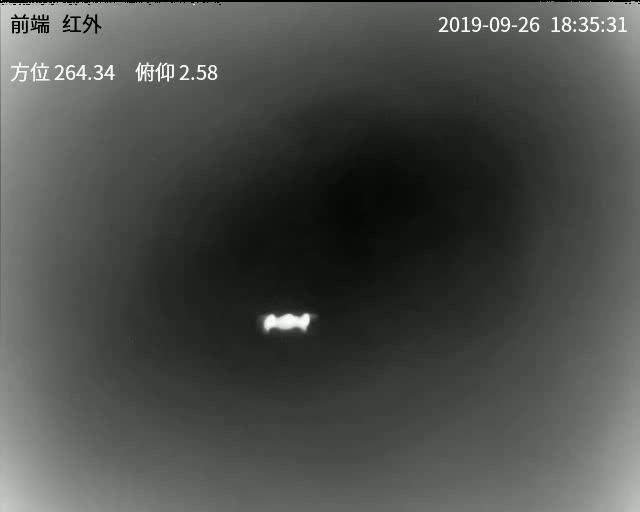DRONE: (261, 311, 311, 333)
